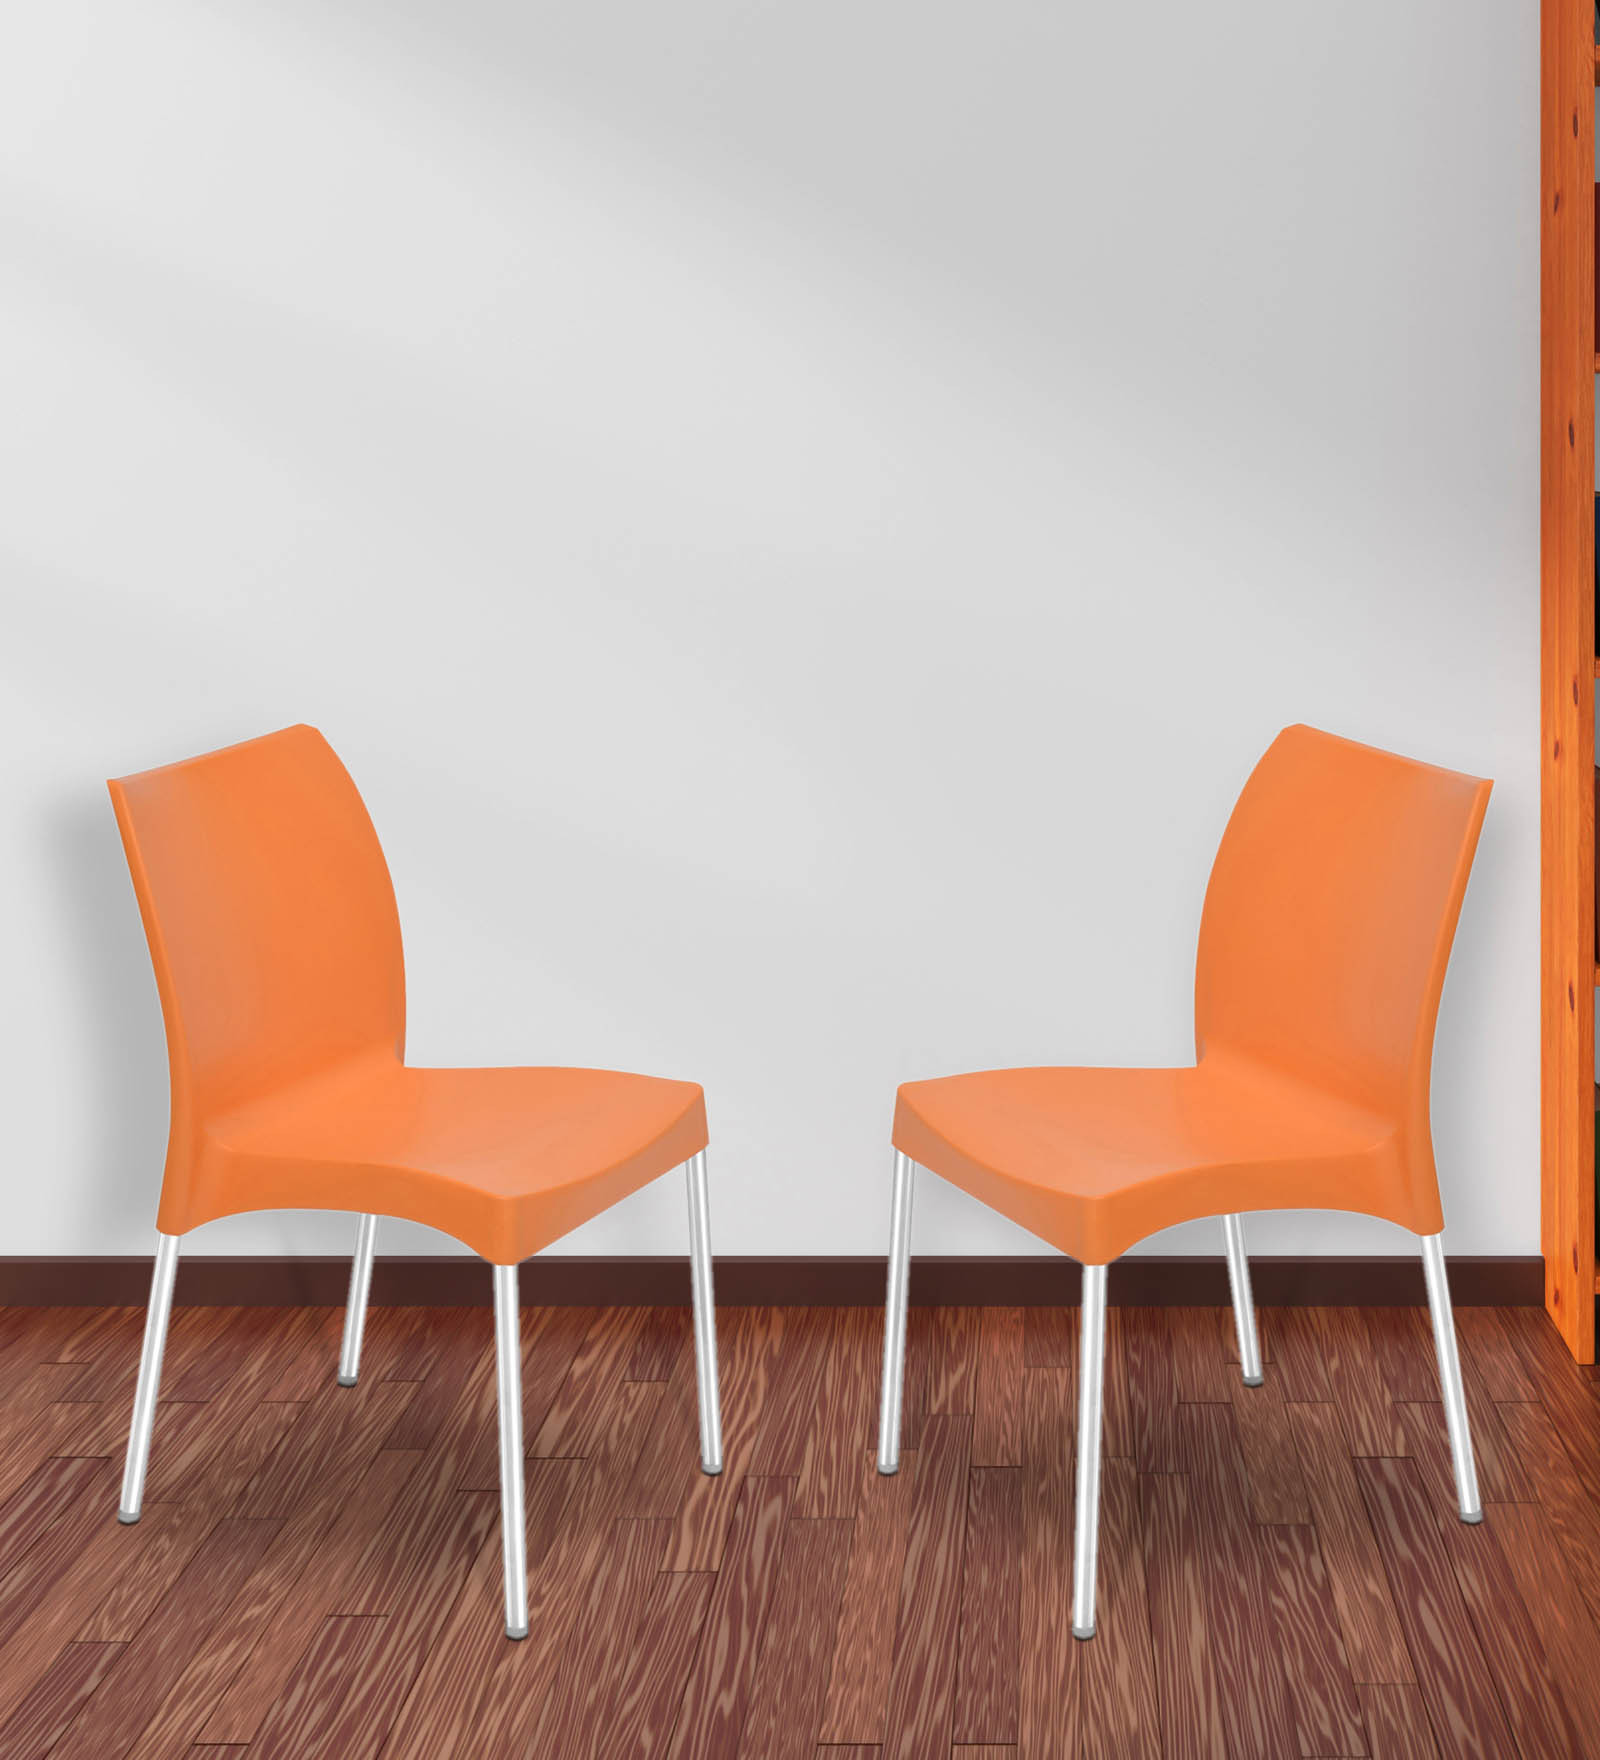Novella Series - 7 Chair (Set of 2) in Orange Colour by Nilkamal: (93, 719, 737, 1648), (864, 714, 1493, 1650)
